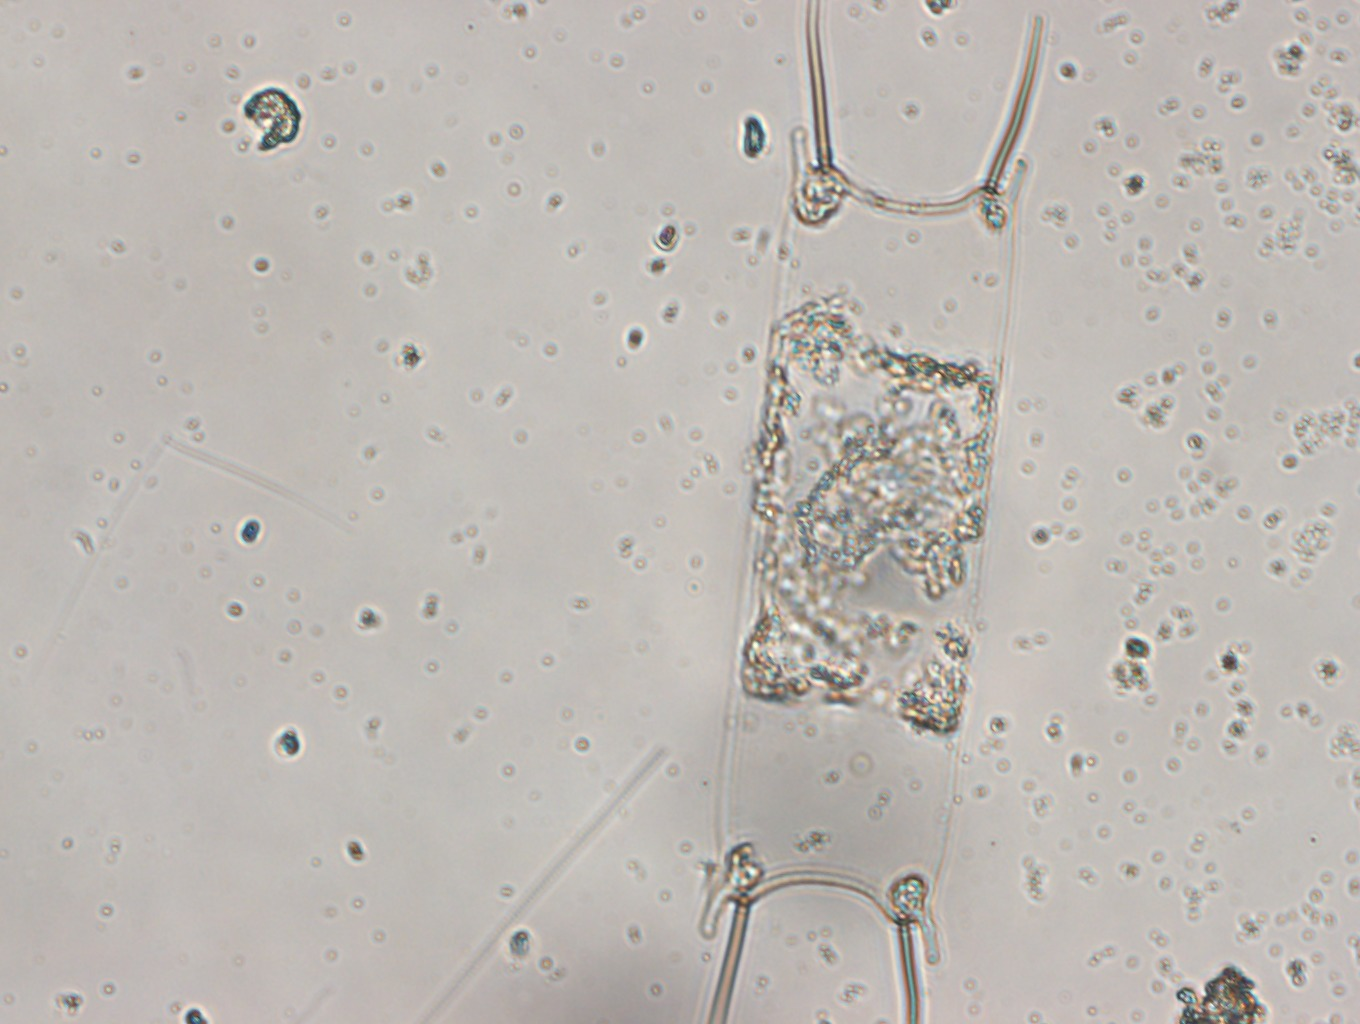biddulphia: (700, 1, 1049, 1024)
